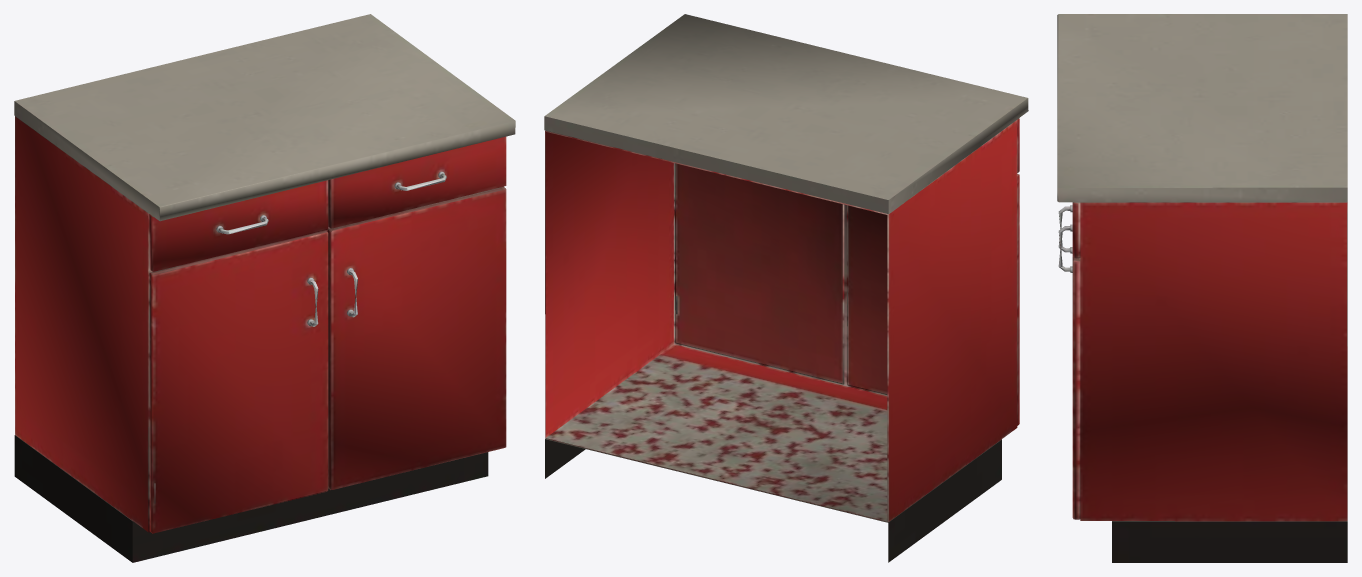
File: kit_base_90_red-low.glb
3 renders of one model, left to right at view 1: azimuth 30°, elevation 25°; view 2: azimuth 150°, elevation 25°; view 3: azimuth 270°, elevation 25°, orthographic. The views are drawn at different scales.
Parts seen in each view (by area): view 1: kit_base_90_red-low; view 2: kit_base_90_red-low; view 3: kit_base_90_red-low.
Boxes of the visible parts, box(x1,y1,x2,y2) form: kit_base_90_red-low: box(14, 14, 515, 562); kit_base_90_red-low: box(544, 14, 1028, 562); kit_base_90_red-low: box(1057, 14, 1347, 562).
Bounding box in the file's own units: 0.898 × 0.905 × 0.6343.
1 material, 1 textured.
